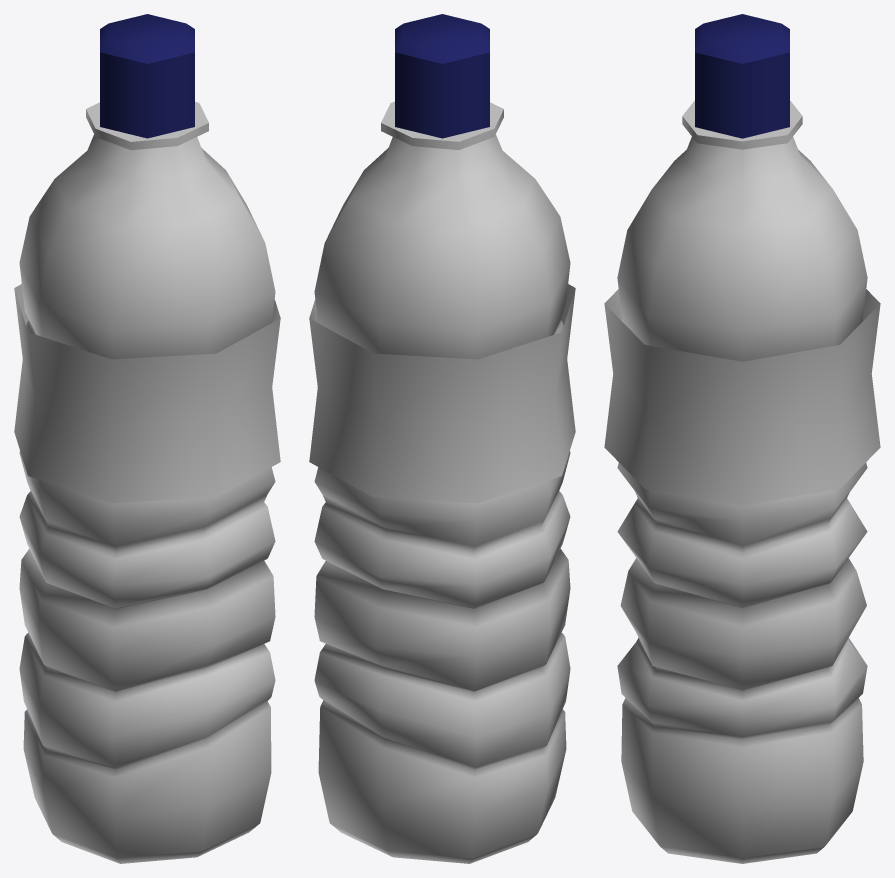
The model's file is BL_Bottle_MOD.fbx.
The picture shows the model from 3 angles, left to right: view 1: azimuth 30°, elevation 25°; view 2: azimuth 150°, elevation 25°; view 3: azimuth 270°, elevation 25°; orthographic projection.
Visible parts, largest first — view 1: BL_WaterBottle_MOD_V1; view 2: BL_WaterBottle_MOD_V1; view 3: BL_WaterBottle_MOD_V1.
Part boxes in pixels (x1,y1,x2,y2): BL_WaterBottle_MOD_V1: (14, 14, 280, 863); BL_WaterBottle_MOD_V1: (309, 14, 575, 863); BL_WaterBottle_MOD_V1: (604, 14, 880, 863).
Size of the model in its own units: 21.34 by 67.49 by 21.34.
